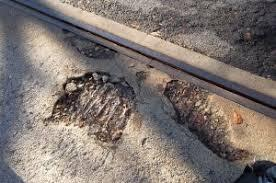spalling: (164, 80, 248, 161), (45, 72, 135, 143), (65, 31, 116, 58)
